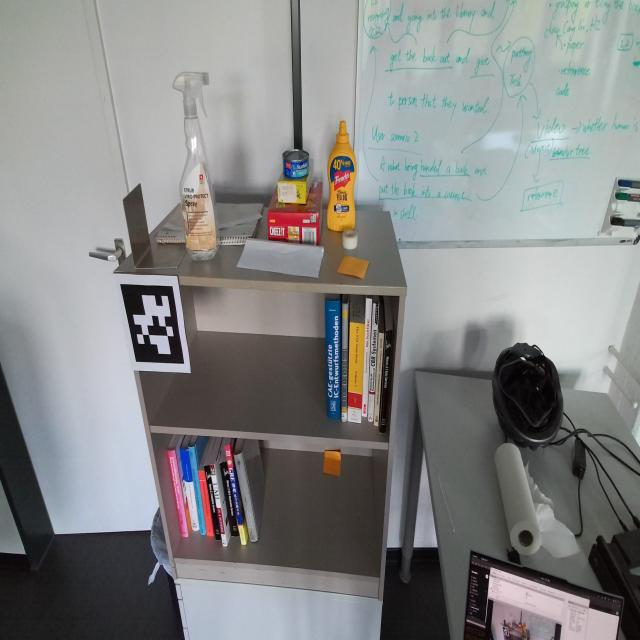Book Spine: (224, 445, 246, 545), (234, 451, 258, 542), (167, 449, 189, 538), (347, 322, 365, 424), (325, 300, 340, 419), (180, 449, 200, 531), (188, 446, 206, 536), (219, 461, 239, 537), (209, 464, 227, 547), (203, 465, 222, 540), (380, 329, 393, 434), (368, 302, 379, 422), (362, 298, 372, 417), (198, 471, 214, 536), (374, 332, 384, 426), (342, 303, 348, 422)
